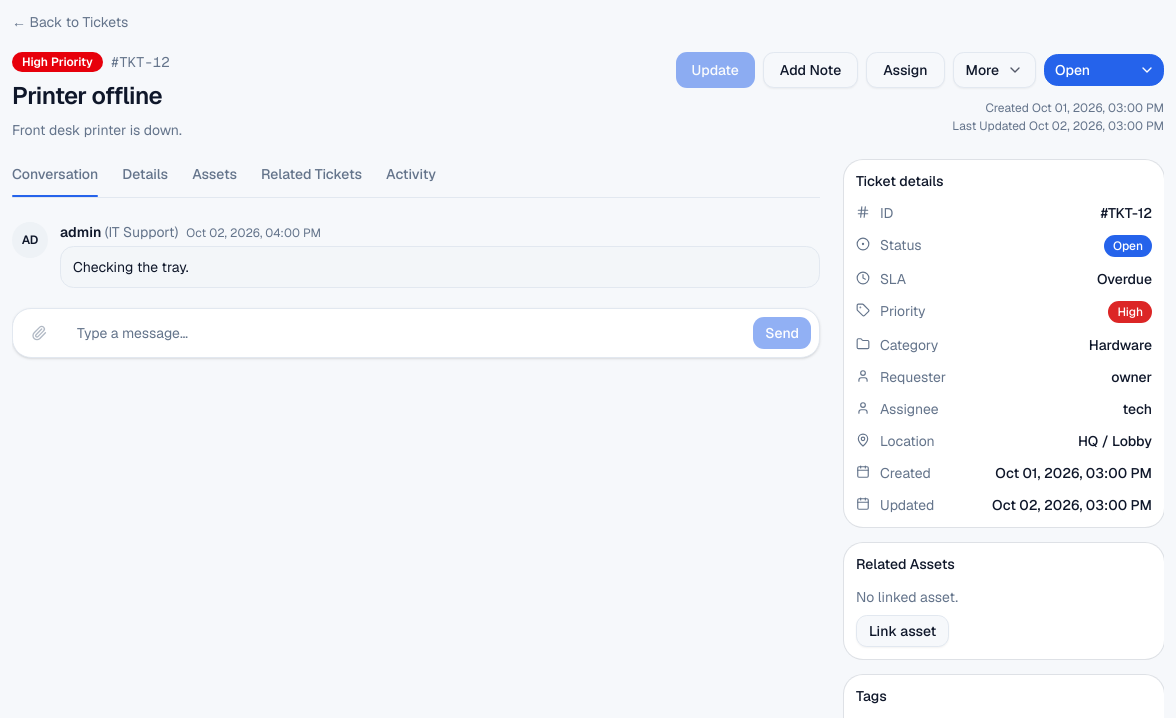
Scenario: TicketWorkspace — details, assets, and actions › sets requester from the asset owner when linking an asset
Click the tab "Assets" at coordinates (214, 179), box [192,160,237,198]
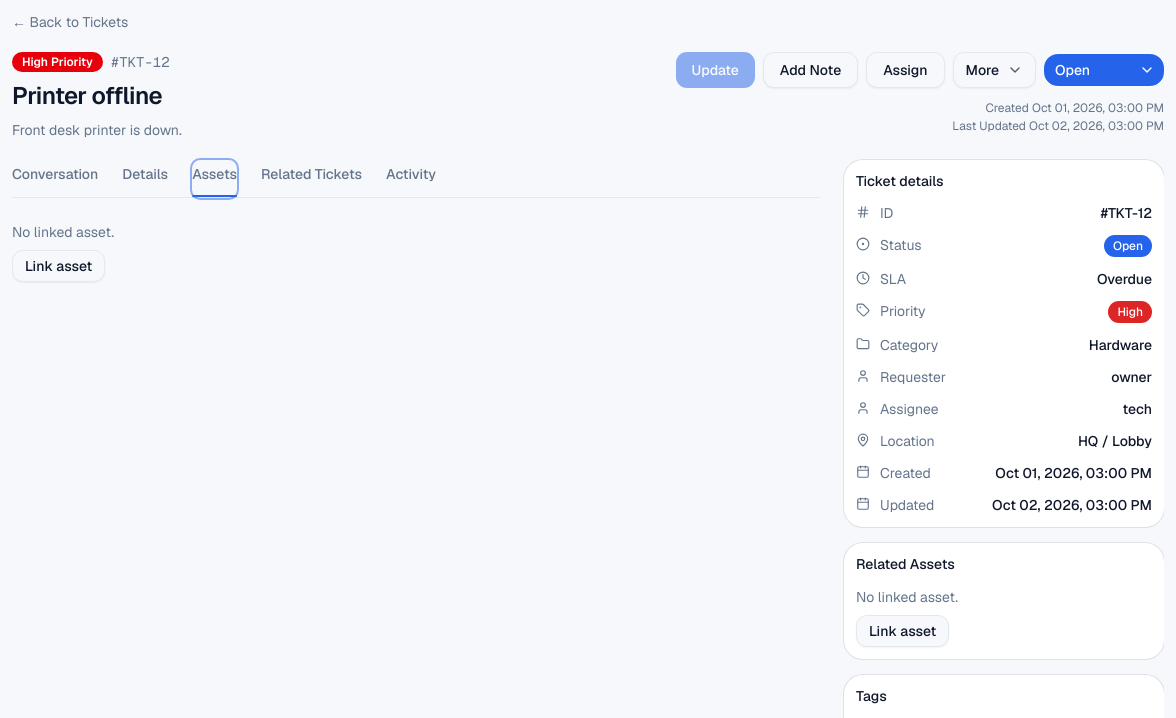
Click the 1st button "Link asset" at coordinates (59, 266), box [12,250,105,282]
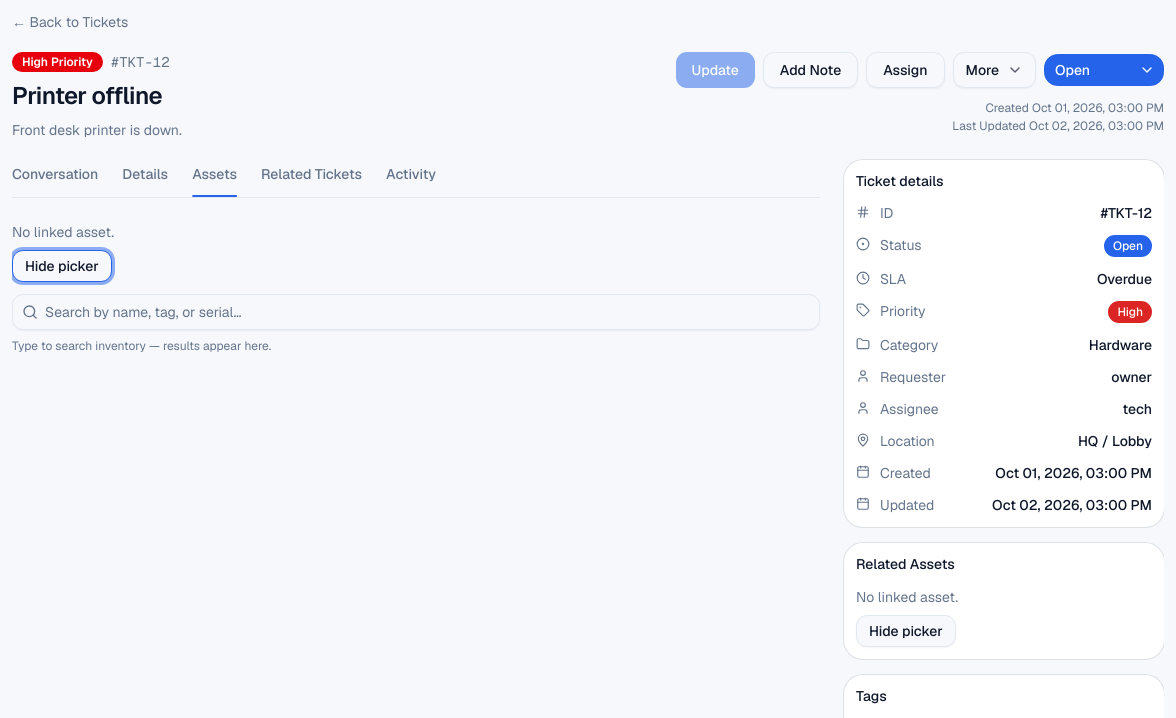
Type "LAP-9" into the field named "Search assets" at coordinates (416, 312), box [12,294,820,330]
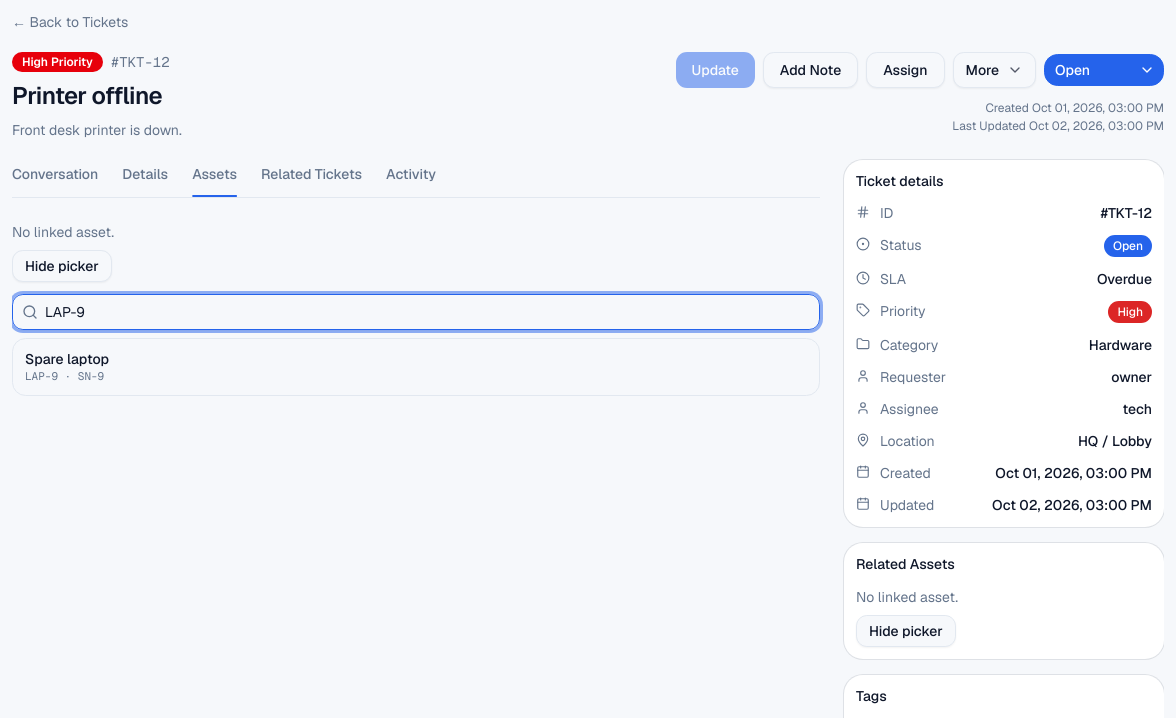
Click the button "Spare laptop LAP-9 · SN-9" at coordinates (67, 359), box [17,343,815,391]
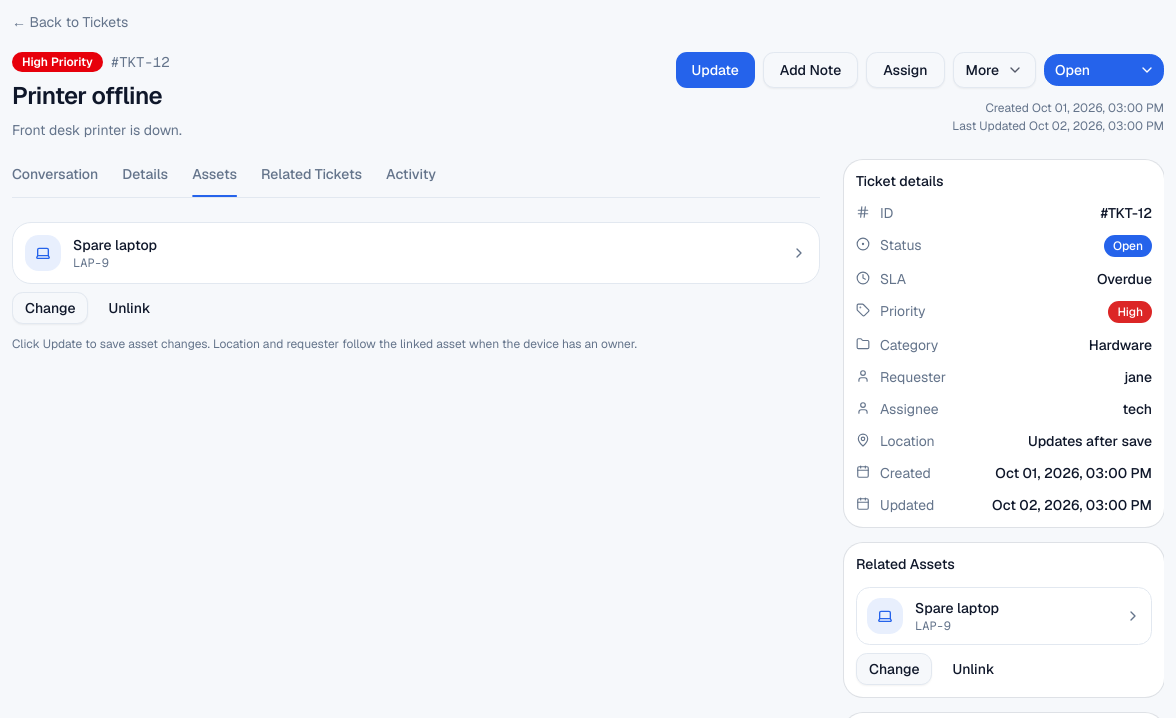
Check: the button "Update" is enabled, box [676,52,755,88]
Click the tab "Details" at coordinates (145, 179), box [122,160,168,198]
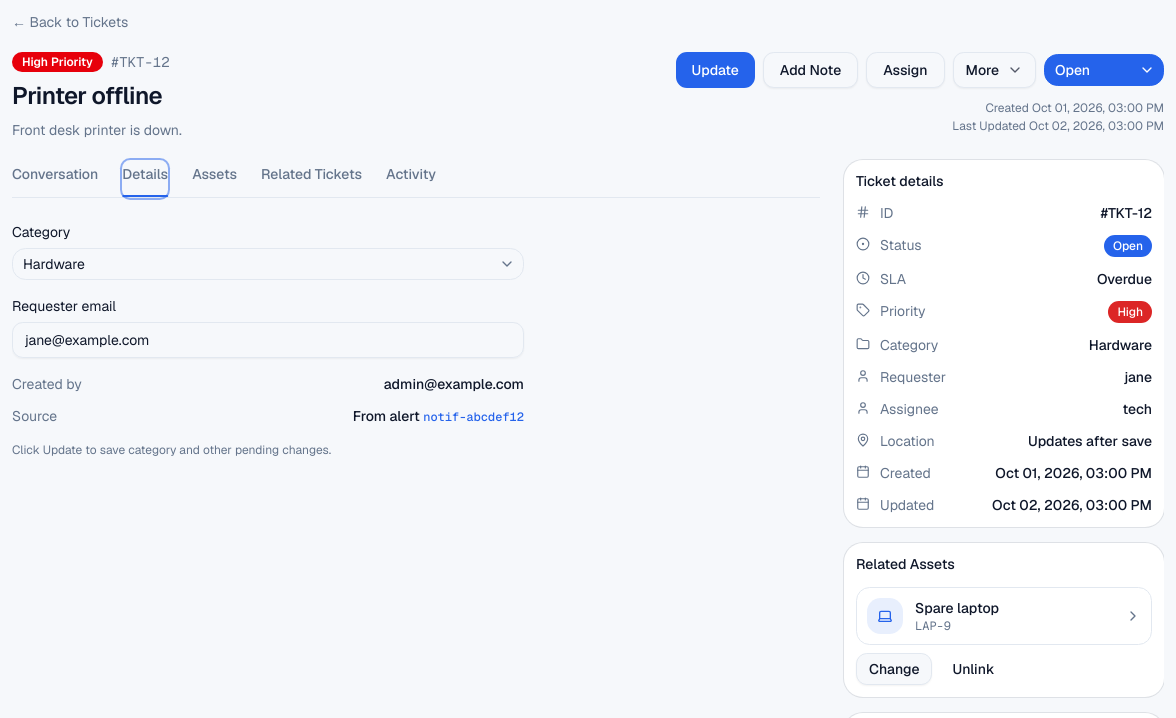
Check: the field labelled "Requester email" holds "jane@example.com", box [12,322,524,358]
